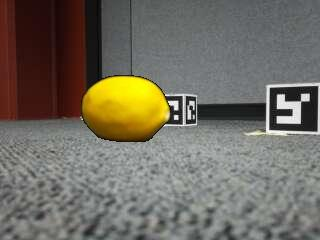lemon: (82, 76, 170, 141)
